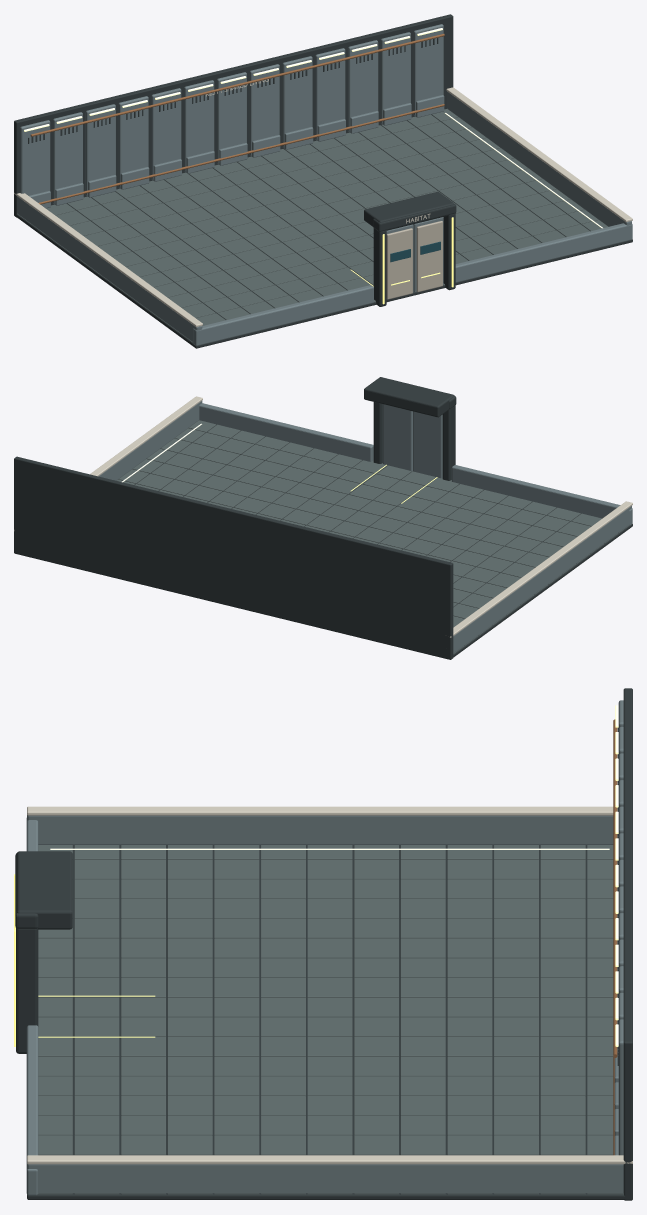
File: habitat-shell.glb
3 renders of one model, top to bottom at view 1: azimuth 30°, elevation 25°; view 2: azimuth 150°, elevation 25°; view 3: azimuth 270°, elevation 25°, orthographic. The views are drawn at different scales.
Parts seen in each view (by area): view 1: Floor_Floor, InteriorRevealBack_Steel, InteriorRevealRail_Steel, InteriorRevealBack_Graphite, Floor_Graphite, CutawayEntrance_Graphite, InteriorRevealRail_Edge, InteriorRevealBack_Copper, DoorRight_Ivory, DoorLeft_Ivory, InteriorRevealBack_Warm; view 2: InteriorRevealBack_Graphite, Floor_Floor, InteriorRevealRail_Steel, CutawayEntrance_Graphite, InteriorRevealRail_Edge, Floor_Graphite, DoorRight_Steel, DoorLeft_Steel; view 3: Floor_Floor, InteriorRevealRail_Steel, Floor_Graphite, InteriorRevealRail_Edge, CutawayEntrance_Graphite, InteriorRevealBack_Graphite, InteriorRevealBack_Steel, InteriorRevealBack_Copper, InteriorRevealBack_Warm, Floor_Warm.
Part boxes in pixels (bbox=[...]): Floor_Floor: bbox=[17, 109, 607, 342]; InteriorRevealBack_Steel: bbox=[20, 24, 444, 208]; InteriorRevealRail_Steel: bbox=[17, 91, 632, 345]; InteriorRevealBack_Graphite: bbox=[14, 14, 453, 217]; Floor_Graphite: bbox=[14, 114, 632, 348]; CutawayEntrance_Graphite: bbox=[364, 191, 456, 306]; InteriorRevealRail_Edge: bbox=[14, 87, 632, 327]; InteriorRevealBack_Copper: bbox=[30, 33, 444, 204]; DoorRight_Ivory: bbox=[416, 221, 442, 292]; DoorLeft_Ivory: bbox=[386, 228, 412, 299]; InteriorRevealBack_Warm: bbox=[24, 28, 442, 131]; InteriorRevealBack_Graphite: bbox=[14, 456, 453, 659]; Floor_Floor: bbox=[116, 420, 629, 654]; InteriorRevealRail_Steel: bbox=[98, 401, 632, 653]; CutawayEntrance_Graphite: bbox=[364, 377, 456, 480]; InteriorRevealRail_Edge: bbox=[14, 396, 632, 637]; Floor_Graphite: bbox=[135, 425, 632, 658]; DoorRight_Steel: bbox=[382, 404, 412, 471]; DoorLeft_Steel: bbox=[413, 411, 442, 478]; Floor_Floor: bbox=[37, 845, 623, 1194]; InteriorRevealRail_Steel: bbox=[26, 815, 623, 1195]; Floor_Graphite: bbox=[27, 845, 632, 1199]; InteriorRevealRail_Edge: bbox=[27, 806, 632, 1164]; CutawayEntrance_Graphite: bbox=[15, 851, 72, 1053]; InteriorRevealBack_Graphite: bbox=[617, 688, 632, 1200]; InteriorRevealBack_Steel: bbox=[614, 700, 623, 1155]; InteriorRevealBack_Copper: bbox=[613, 719, 617, 1155]; InteriorRevealBack_Warm: bbox=[615, 705, 618, 1046]; Floor_Warm: bbox=[50, 848, 609, 849].
Size of the model in its own units: 18 by 3.76 by 13.28.
